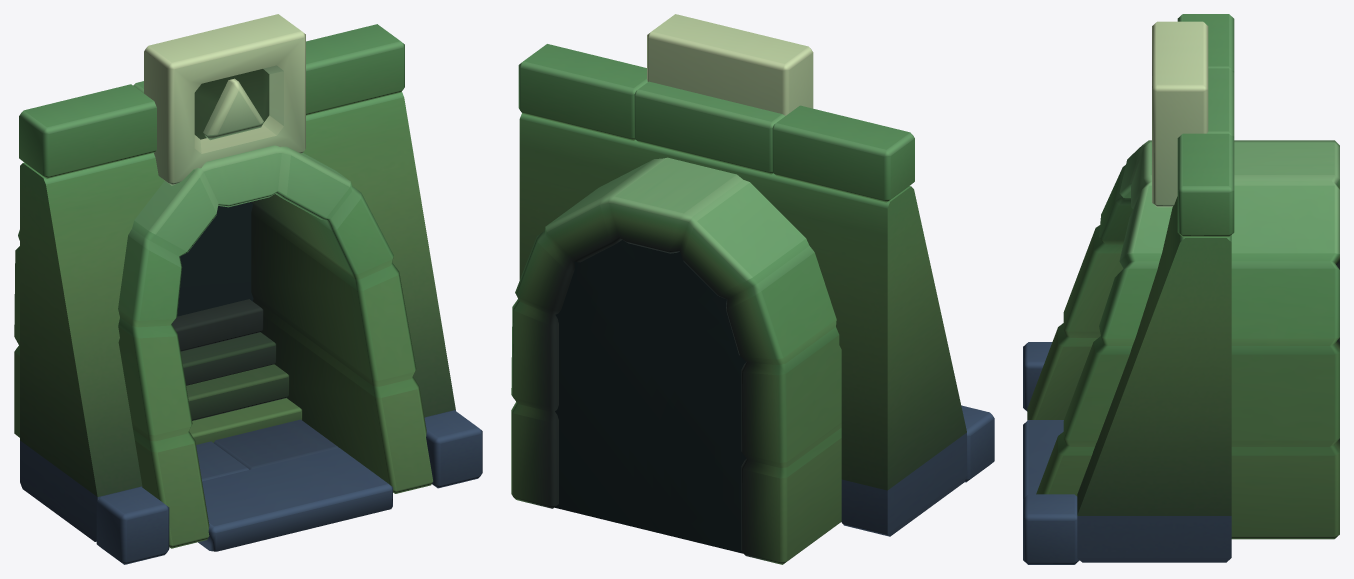
Rendered from doorway_up_lower_wall.fbx.
3 renders of one model, left to right at view 1: azimuth 30°, elevation 25°; view 2: azimuth 150°, elevation 25°; view 3: azimuth 270°, elevation 25°, orthographic. The views are drawn at different scales.
Parts seen in each view (by area): view 1: doorway_up_lower_wall; view 2: doorway_up_lower_wall; view 3: doorway_up_lower_wall.
Part boxes in pixels (bbox=[...]): doorway_up_lower_wall: bbox=[14, 14, 482, 564]; doorway_up_lower_wall: bbox=[511, 14, 994, 564]; doorway_up_lower_wall: bbox=[1023, 14, 1339, 564].
Size of the model in its own units: 405 by 463 by 308.
